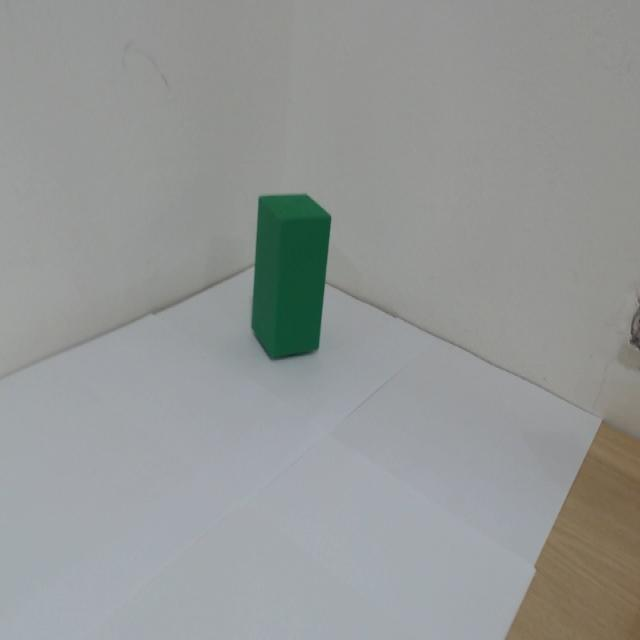cube: (209, 122, 353, 397)
